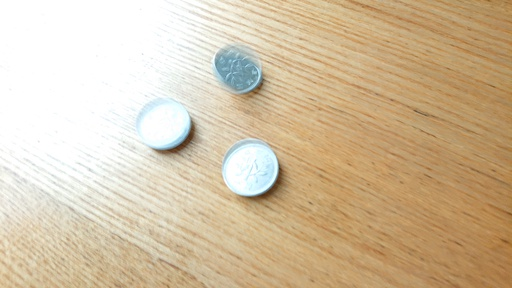1yen: (221, 138, 279, 197), (135, 98, 192, 150), (212, 43, 261, 93)
